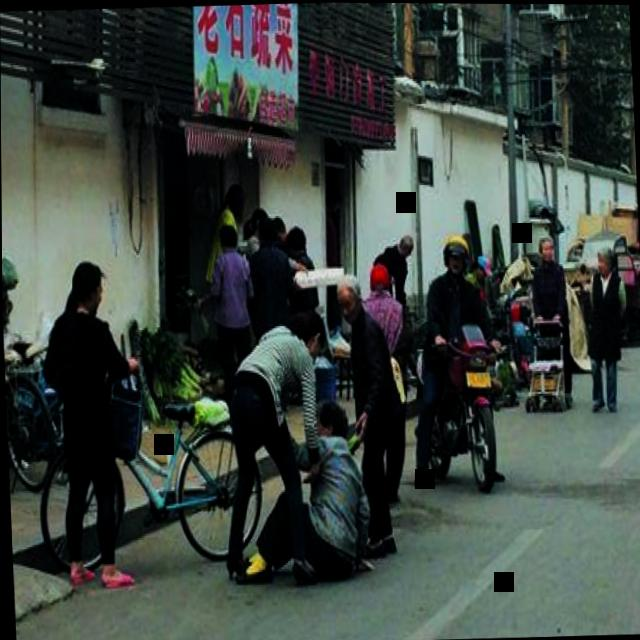Fall-Detected: (235, 388, 375, 589)
